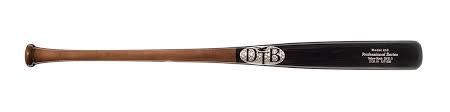baseball bat: (21, 36, 423, 81)
